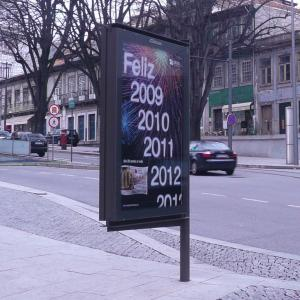Vehicle-registration-plate: (220, 155, 229, 159)
